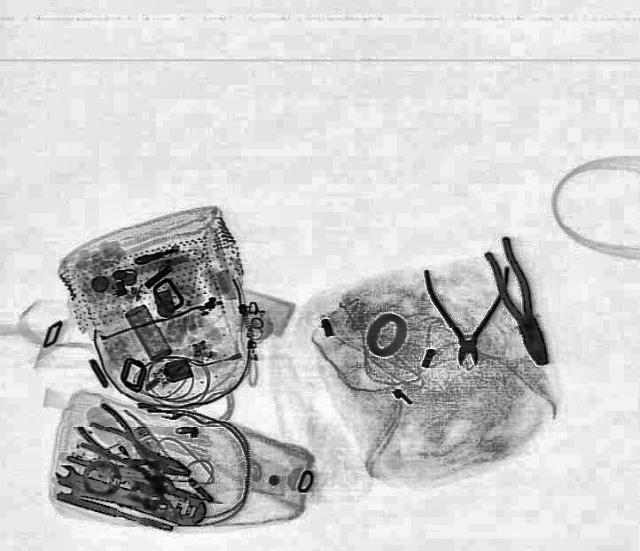Pliers: (49, 452, 218, 532), (476, 235, 560, 368), (72, 416, 200, 486), (423, 266, 507, 366)
Wrench: (48, 461, 134, 503)
